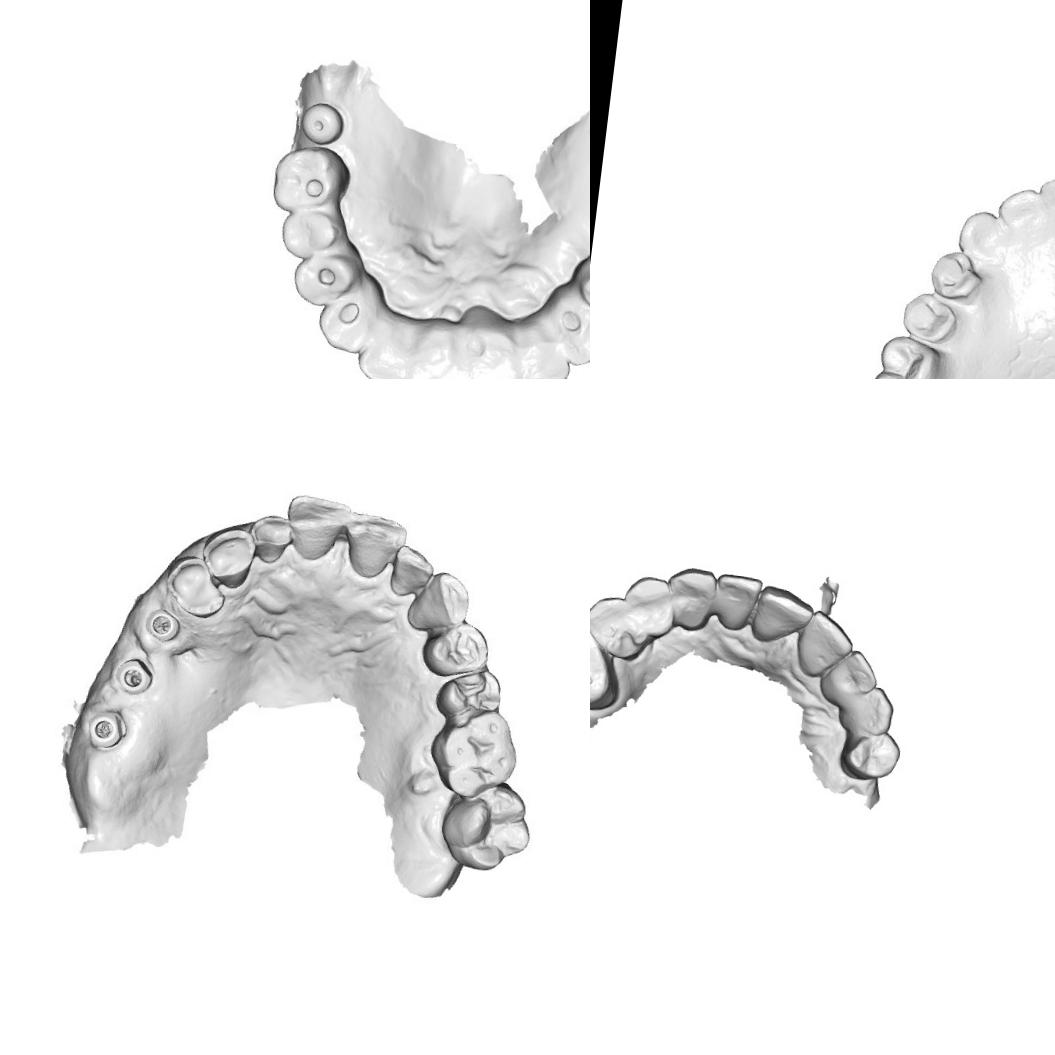canine: (404, 563, 481, 637), (662, 563, 720, 635), (313, 286, 374, 354), (201, 524, 259, 588), (542, 292, 590, 369), (836, 681, 898, 738), (960, 211, 1004, 262)
implant: (84, 704, 136, 756), (108, 652, 158, 698), (300, 101, 346, 148), (142, 602, 188, 642)
incisor: (337, 506, 405, 582), (792, 607, 858, 682), (748, 580, 818, 649), (814, 644, 882, 712), (356, 312, 418, 379), (292, 493, 353, 560), (460, 324, 529, 379), (513, 318, 575, 379), (710, 568, 764, 634), (406, 327, 469, 379), (999, 190, 1052, 246), (250, 513, 296, 568), (388, 547, 435, 600), (1037, 169, 1055, 225)
molar: (444, 778, 540, 877), (434, 710, 524, 807), (271, 144, 358, 216), (590, 617, 628, 714), (869, 336, 943, 379)
premolar: (274, 202, 350, 266), (293, 244, 368, 308), (164, 554, 229, 621), (439, 665, 506, 728), (590, 591, 647, 663), (620, 571, 679, 639), (838, 725, 904, 784), (426, 620, 488, 678), (902, 296, 953, 342), (931, 254, 978, 302), (569, 256, 590, 320)
